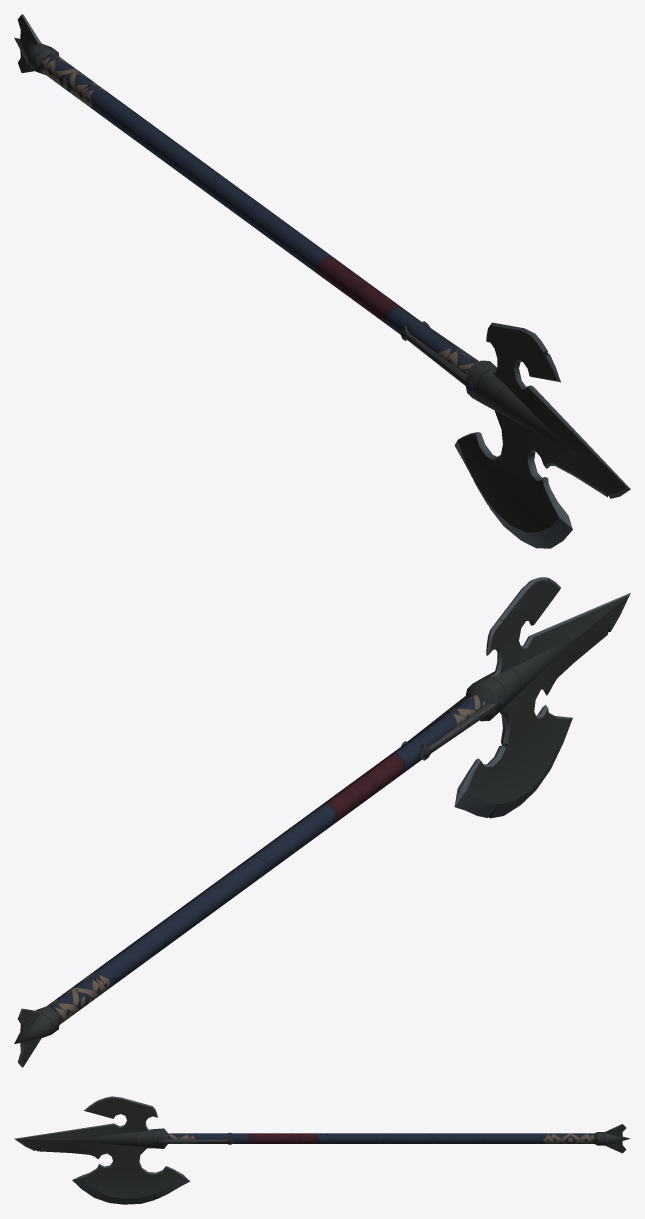
Rendered from Weapon_Spear_003.glb.
3 views of the same model, one above another, from view 1: azimuth 30°, elevation 25°; view 2: azimuth 150°, elevation 25°; view 3: azimuth 270°, elevation 25° (orthographic). The views are drawn at different scales.
Parts seen in each view (by area): view 1: Weapon_Spear_003; view 2: Weapon_Spear_003; view 3: Weapon_Spear_003.
Part boxes in pixels (bbox=[...]): Weapon_Spear_003: bbox=[14, 14, 630, 548]; Weapon_Spear_003: bbox=[14, 577, 630, 1067]; Weapon_Spear_003: bbox=[14, 1096, 630, 1204].
Size of the model in its own units: 0.0969 by 0.5159 by 2.66.
1 material, 1 textured.
